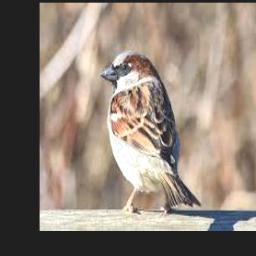Sparrow: (99, 50, 201, 213)
